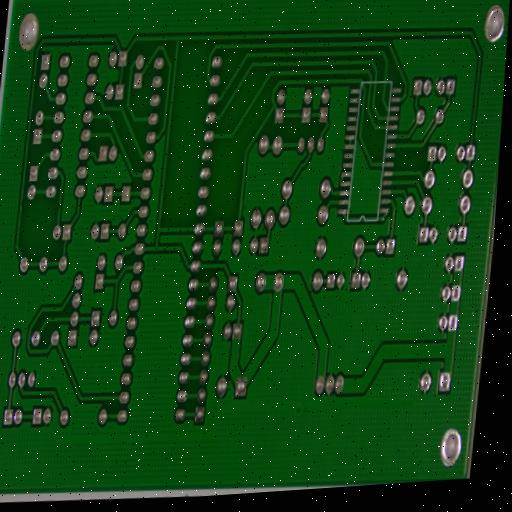mouse_bite: (48, 312, 56, 325), (56, 201, 63, 213), (161, 244, 168, 254)
